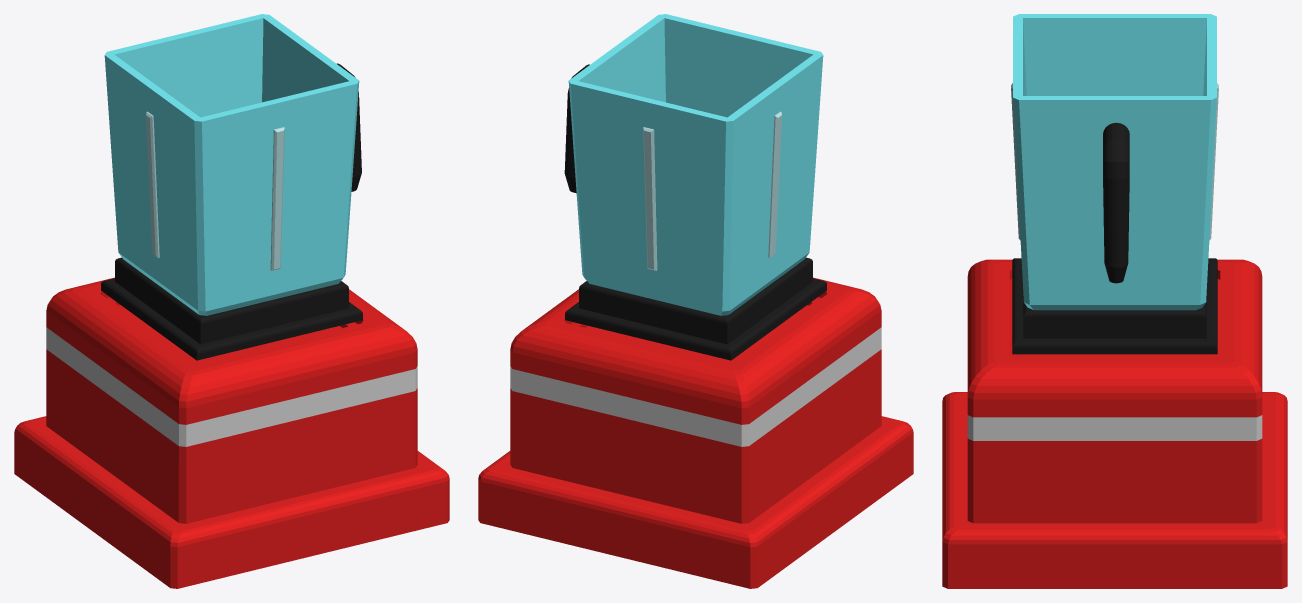
The model's file is Blender.fbx.
The picture shows the model from 3 angles, left to right: view 1: azimuth 30°, elevation 25°; view 2: azimuth 150°, elevation 25°; view 3: azimuth 270°, elevation 25°; orthographic projection. The views are drawn at different scales.
Visible parts, largest first — view 1: BlenderBase, BlenderGlass; view 2: BlenderBase, BlenderGlass; view 3: BlenderBase, BlenderGlass.
Part boxes in pixels (box(x1,y1,x2,y2)): BlenderBase: box(14, 277, 449, 588); BlenderGlass: box(101, 14, 362, 360); BlenderBase: box(478, 277, 913, 588); BlenderGlass: box(564, 14, 826, 360); BlenderBase: box(942, 259, 1287, 588); BlenderGlass: box(1011, 14, 1218, 354).
Bounding box in the file's own units: 231 × 340 × 231.
